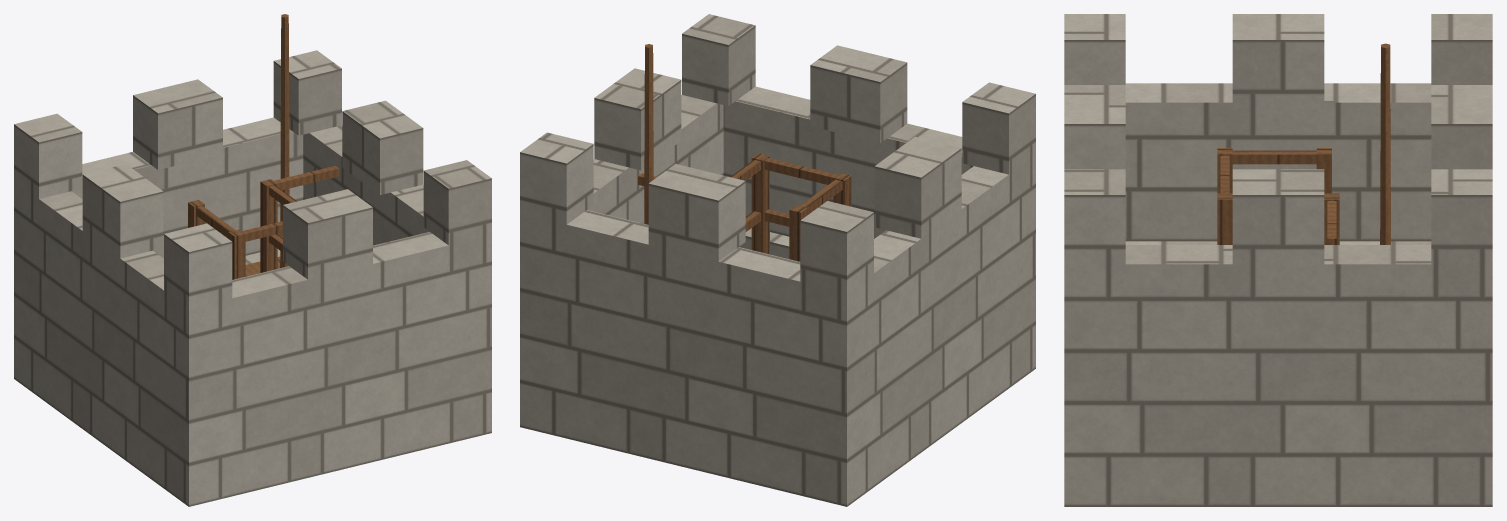
File: Tower_Cap.fbx
3 views of the same model, side by side, from view 1: azimuth 30°, elevation 25°; view 2: azimuth 150°, elevation 25°; view 3: azimuth 270°, elevation 25° (orthographic). The views are drawn at different scales.
Parts seen in each view (by area): view 1: Tower_Cap; view 2: Tower_Cap; view 3: Tower_Cap.
Boxes of the visible parts, x1,y1,x2,y2 form: Tower_Cap: (14, 14, 491, 506); Tower_Cap: (520, 14, 1035, 506); Tower_Cap: (1064, 14, 1492, 506).
Bounding box in the file's own units: 2.8 × 3 × 2.8.
2 materials, 2 textured.
